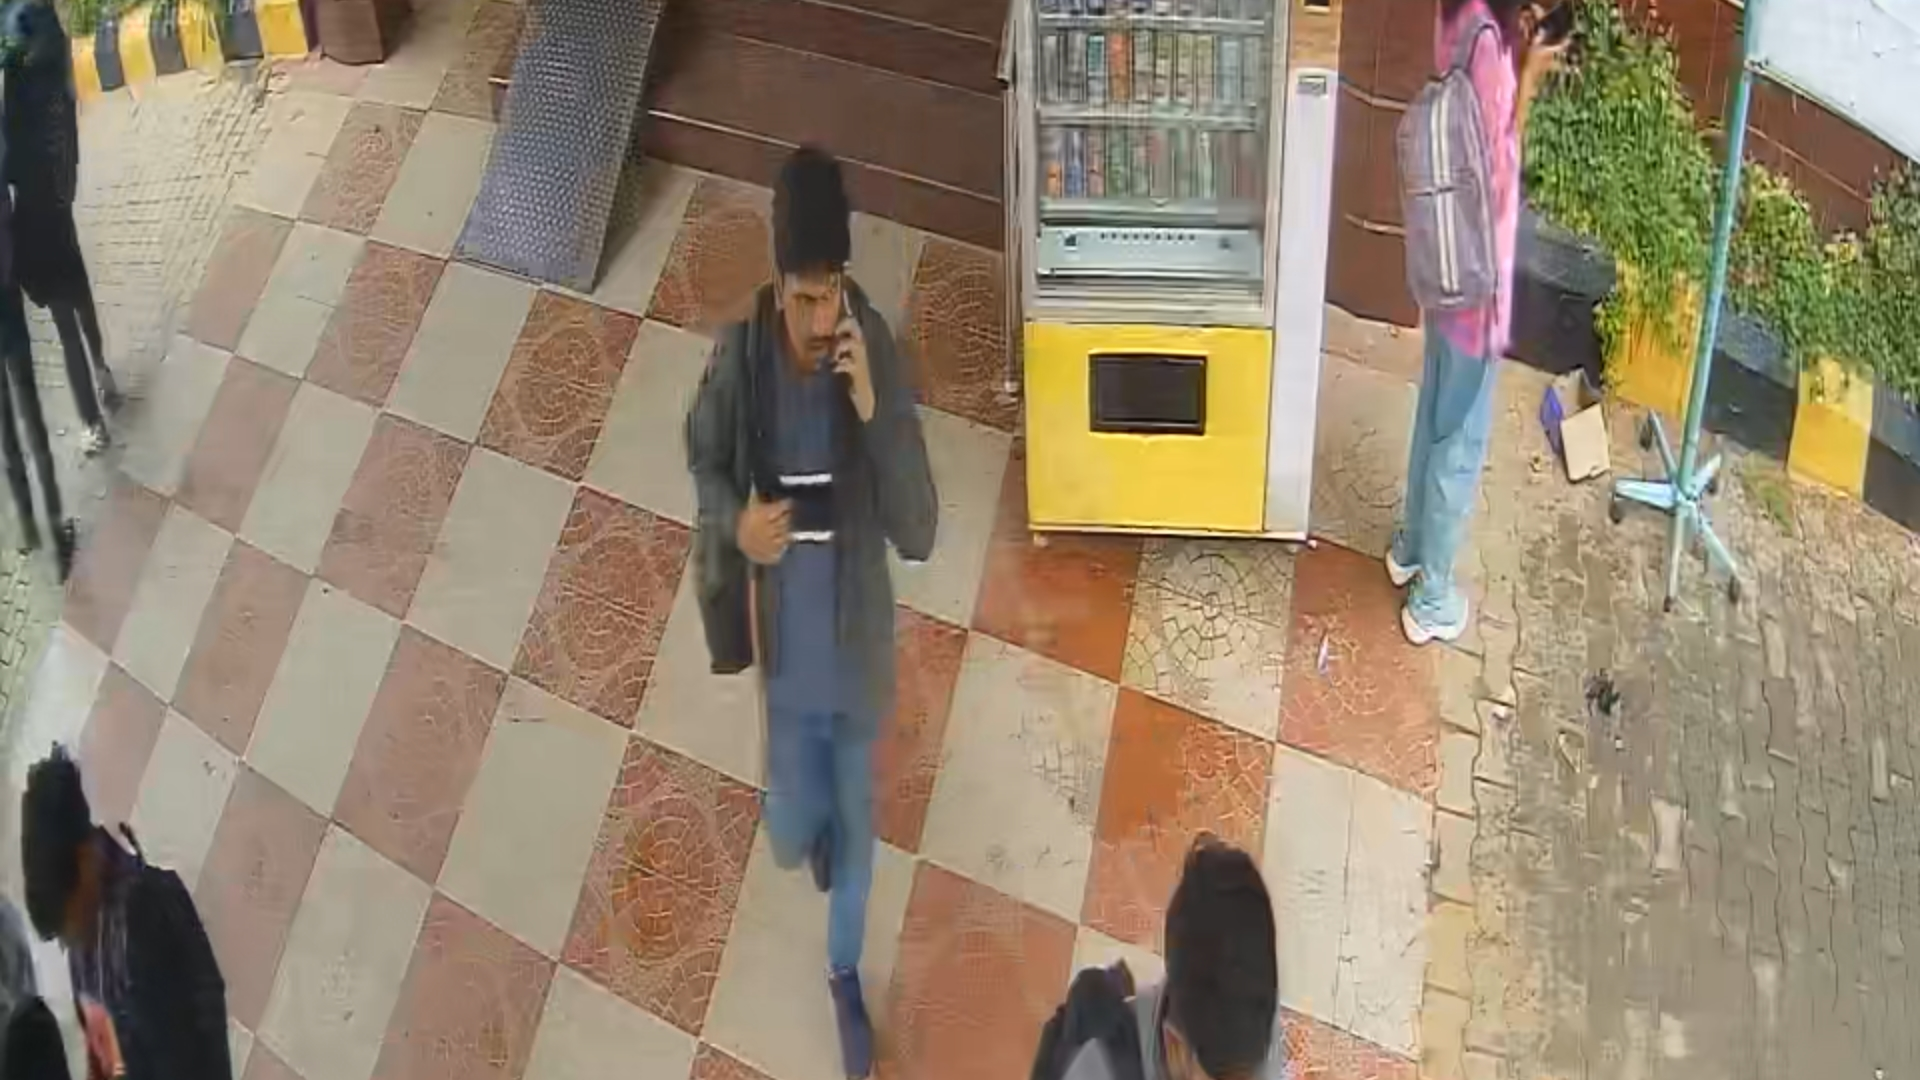intruder: (678, 133, 939, 1080)
